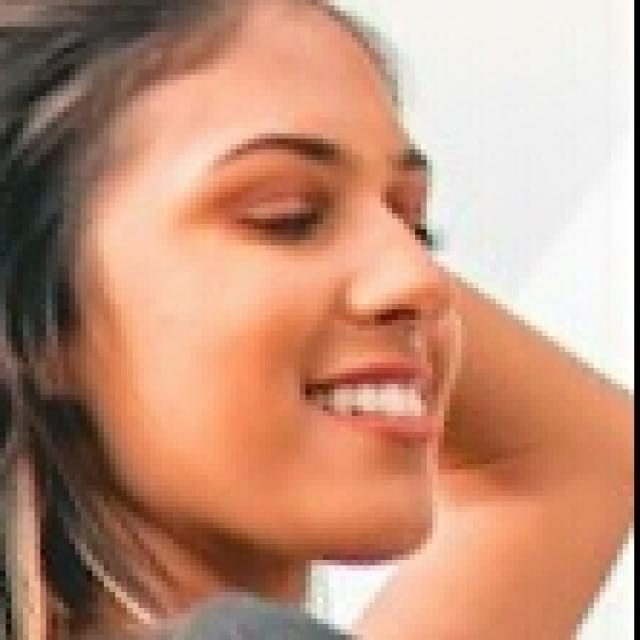front: (150, 128, 473, 535)
